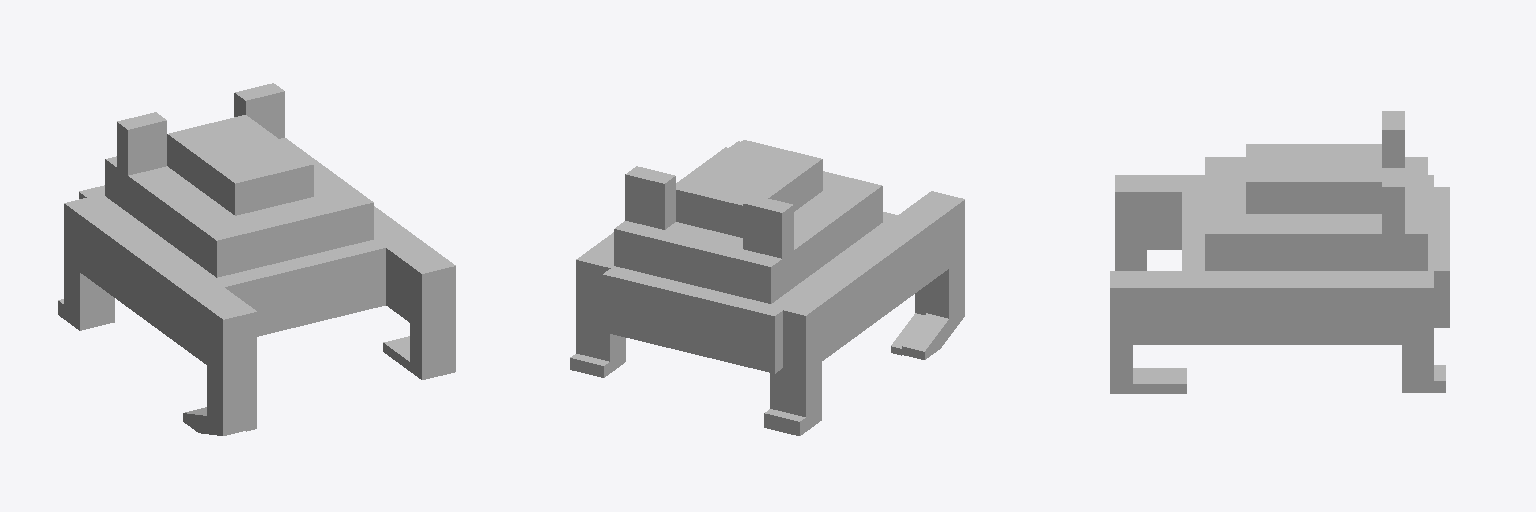
The model's file is frog.obj.
3 renders of one model, left to right at view 1: azimuth 30°, elevation 25°; view 2: azimuth 150°, elevation 25°; view 3: azimuth 270°, elevation 25°, orthographic.
Visible parts, largest first — view 1: Cube; view 2: Cube; view 3: Cube.
Boxes of the visible parts, box(x1,y1,x2,y2) form: Cube: box(58, 83, 455, 435); Cube: box(570, 140, 964, 435); Cube: box(1110, 111, 1449, 393).
Size of the model in its own units: 2.93 by 2.62 by 3.76.